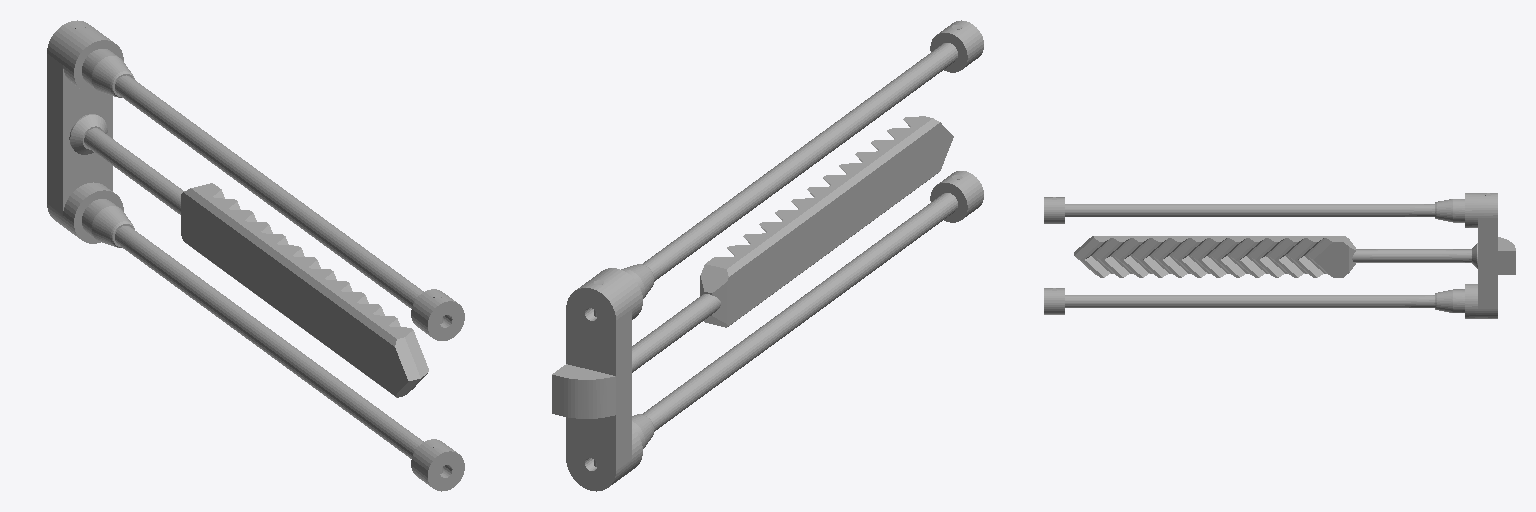
robot.urdf — eecs4421_1d_hopper:
<?xml version="1.0" ?>
<!-- =================================================================================== -->
<!-- |    This document was autogenerated by xacro from assets/jumping_robot_description_root/urdf/eecs4421_1d_wrapper.xacro | -->
<!-- |    EDITING THIS FILE BY HAND IS NOT RECOMMENDED                                 | -->
<!-- =================================================================================== -->
<robot name="eecs4421_1d_hopper">
  <material name="silver">
    <color rgba="0.700 0.700 0.700 1.000"/>
  </material>
  <gazebo>
    <plugin filename="libgazebo_ros_control.so" name="control"/>
  </gazebo>
  <gazebo reference="base_link">
    <material>Gazebo/Silver</material>
    <mu1>0.2</mu1>
    <mu2>0.2</mu2>
    <selfCollide>true</selfCollide>
    <gravity>true</gravity>
  </gazebo>
  <link name="base_link">
    <inertial>
      <origin rpy="0 0 0" xyz="-0.013572090010166953 0.07234958657969306 -0.0004353043410476317"/>
      <mass value="0.2824006607720704"/>
      <inertia ixx="0.001426" ixy="-5e-06" ixz="-0.0" iyy="7.2e-05" iyz="-0.0" izz="0.001359"/>
    </inertial>
    <visual>
      <origin rpy="0 0 0" xyz="0 0 0"/>
      <geometry>
        <mesh filename="meshes/base_link.stl" scale="0.001 0.001 0.001"/>
      </geometry>
      <material name="silver"/>
    </visual>
    <collision>
      <origin rpy="0 0 0" xyz="0 0 0"/>
      <geometry>
        <mesh filename="meshes/base_link.stl" scale="0.001 0.001 0.001"/>
      </geometry>
    </collision>
  </link>
  <!-- No joint needed - base_link is the root link and will be fixed in PyBullet -->
  <!-- 1D motion will be constrained via code using _clamp_to_1d() method -->
</robot>

--- Render facts (derived) ---
Views: 3 orthographic renders of the robot side by side, from view 1: azimuth 30°, elevation 25°; view 2: azimuth 150°, elevation 25°; view 3: azimuth 270°, elevation 25°.
Model eecs4421_1d_hopper with 1 links and 0 joints (none), rooted at base_link, posed every joint at zero.
Links seen in each view (by area): view 1: base_link; view 2: base_link; view 3: base_link.
Link boxes in pixels (x1,y1,x2,y2): base_link: (47,20,464,491); base_link: (552,20,983,491); base_link: (1044,193,1515,318).
Size in the robot's own frame: 0.016 by 0.216 by 0.062 metres.
Meshes: 1 distinct files referenced, 1 mesh visuals loaded (1 binary STL).